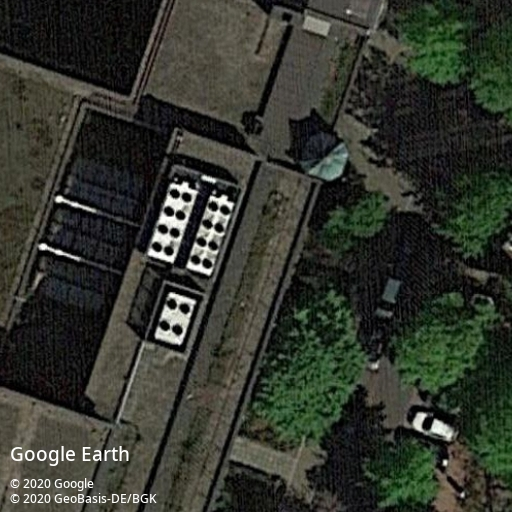Chiller: (145, 182, 198, 264), (185, 194, 235, 276), (154, 292, 197, 345)
